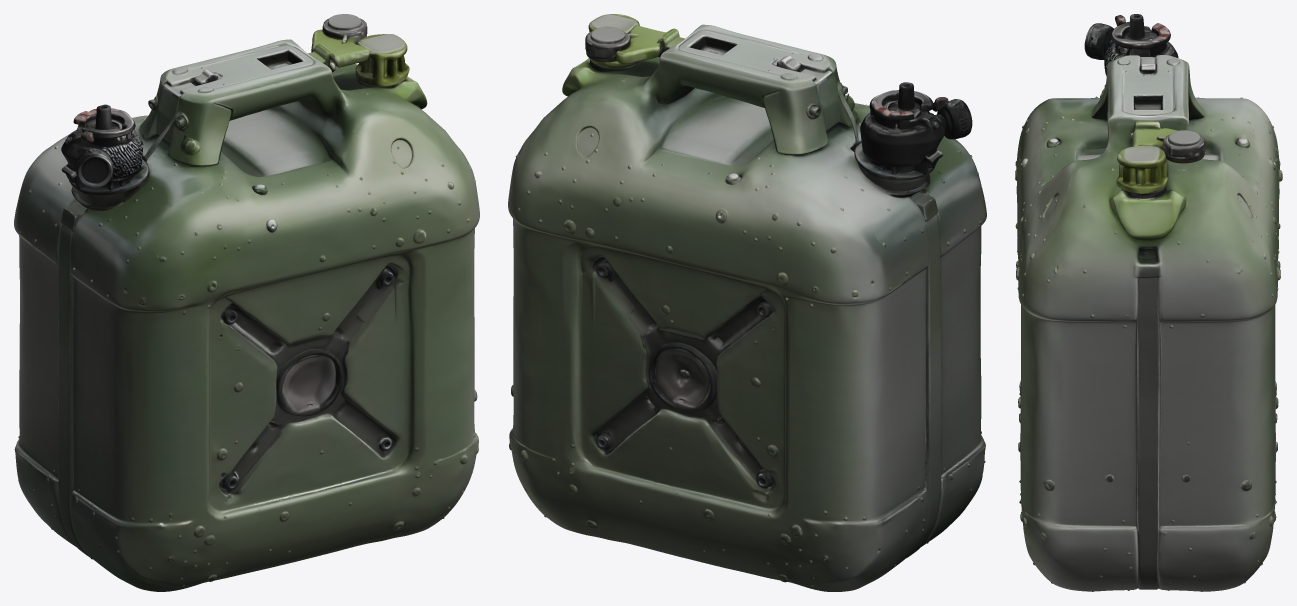
Rendered from fuel.glb.
The picture shows the model from 3 angles, left to right: view 1: azimuth 30°, elevation 25°; view 2: azimuth 150°, elevation 25°; view 3: azimuth 270°, elevation 25°; orthographic projection. The views are drawn at different scales.
Parts seen in each view (by area): view 1: tripo_node_8acf1029-7edf-4a7d-be63-e087f31cae8a; view 2: tripo_node_8acf1029-7edf-4a7d-be63-e087f31cae8a; view 3: tripo_node_8acf1029-7edf-4a7d-be63-e087f31cae8a.
Part boxes in pixels (box(x1,y1,x2,y2)): tripo_node_8acf1029-7edf-4a7d-be63-e087f31cae8a: box(14, 14, 479, 591); tripo_node_8acf1029-7edf-4a7d-be63-e087f31cae8a: box(508, 14, 986, 591); tripo_node_8acf1029-7edf-4a7d-be63-e087f31cae8a: box(1015, 14, 1282, 591).
Bounding box in the file's own units: 0.8515 × 1 × 0.5458.
1 material, 1 textured.
